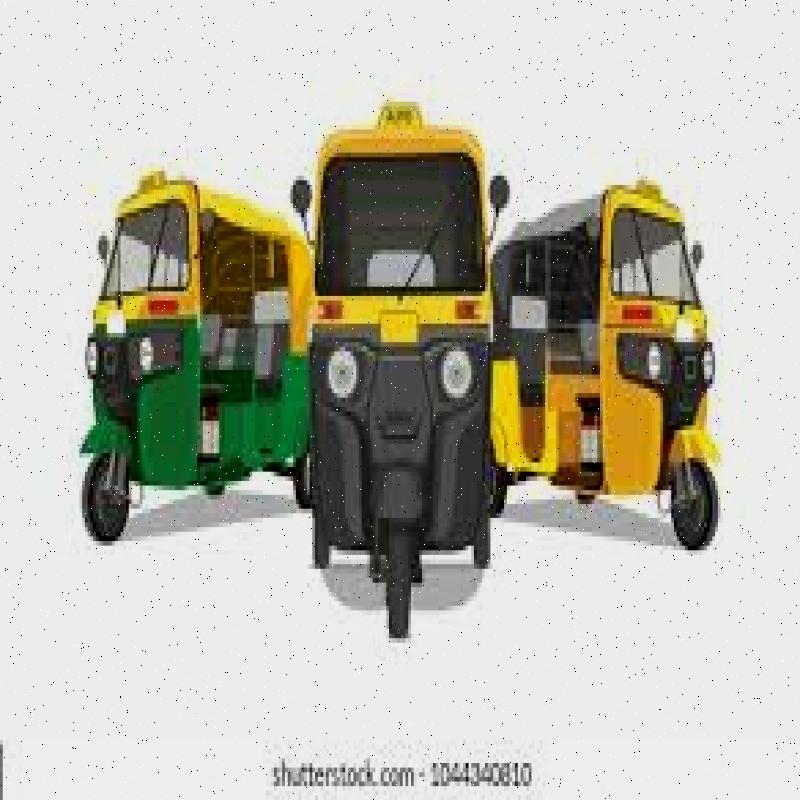auto: (305, 81, 497, 599), (515, 145, 746, 538), (63, 149, 304, 513)
